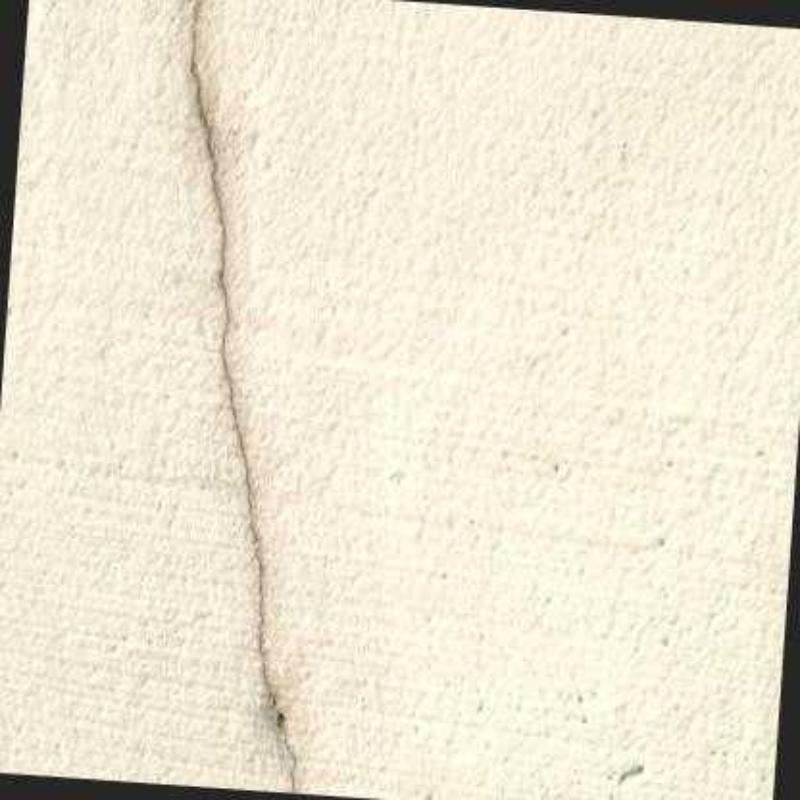pothole: (191, 0, 299, 794)
